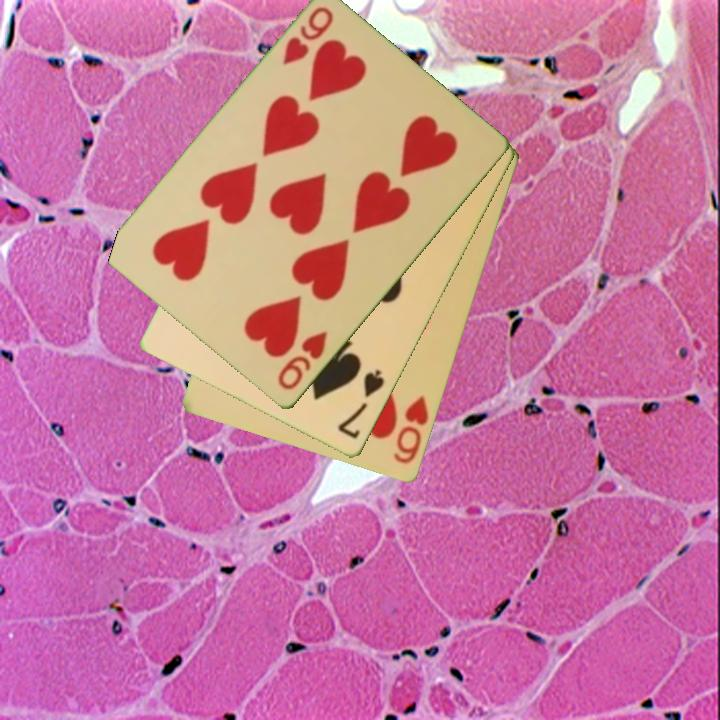6h: (390, 392, 432, 467)
7s: (334, 366, 388, 443)
9h: (279, 3, 337, 69), (274, 327, 331, 394)
